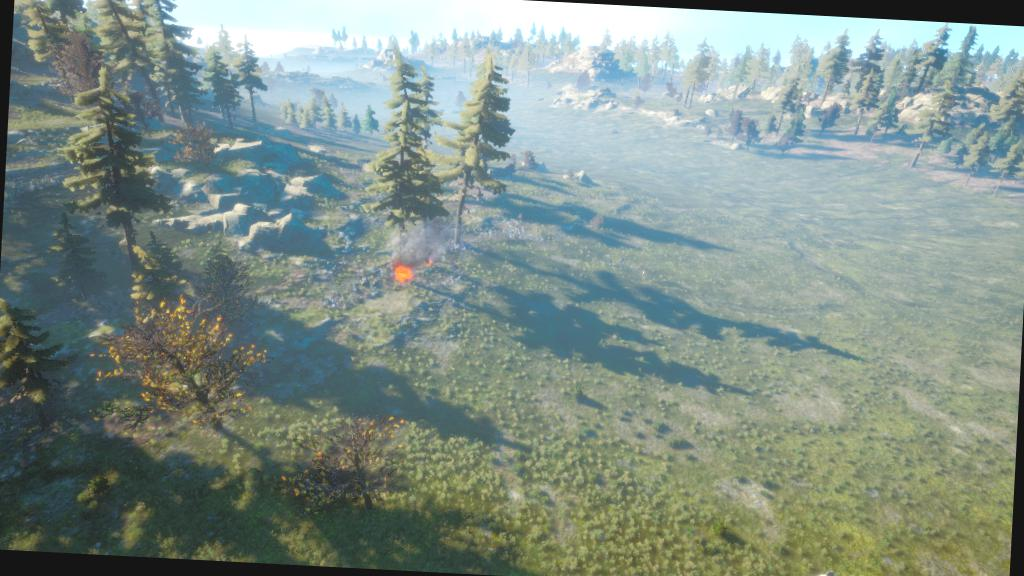Fire: (391, 262, 417, 286)
elephant: (805, 567, 872, 575)
human: (640, 268, 648, 279), (619, 256, 626, 268), (628, 264, 634, 275), (604, 253, 609, 266), (608, 259, 613, 269)
smoke: (392, 214, 467, 268)
